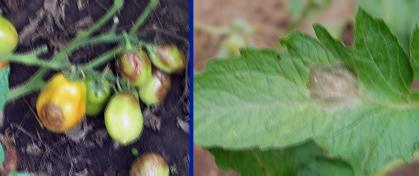Tomato leaf late blight: (196, 12, 419, 176)
